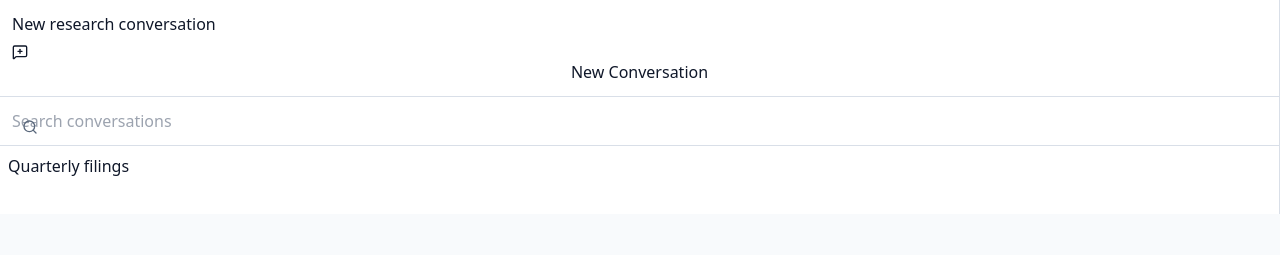
Scenario: ConversationSidebar › validates the create form
Replace the text in the field named "New conversation title" with "AI" at (640, 24), box [12, 12, 1267, 36]
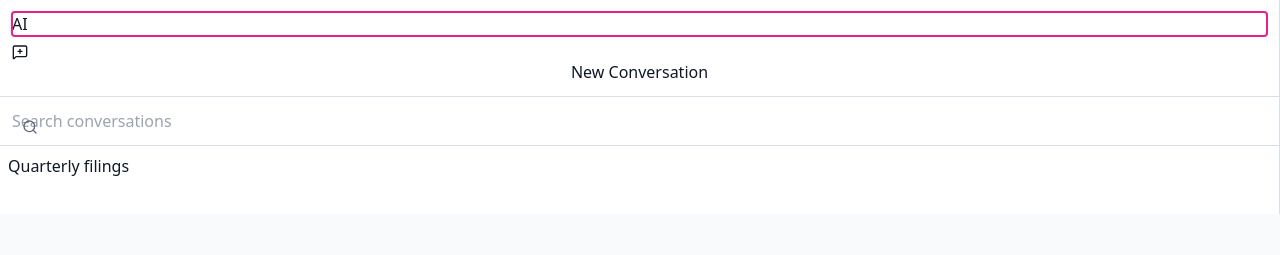
Click the button "New Conversation" at (640, 64), box [12, 44, 1267, 84]
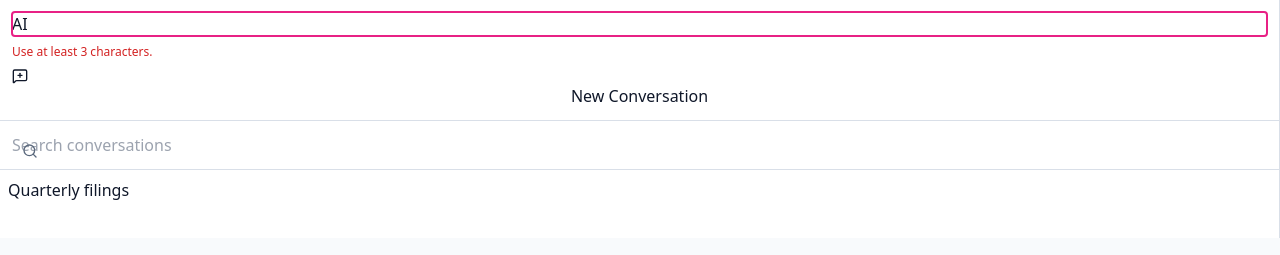
Expected: the text "Use at least 3 characters." is shown, [12, 43, 152, 60]
